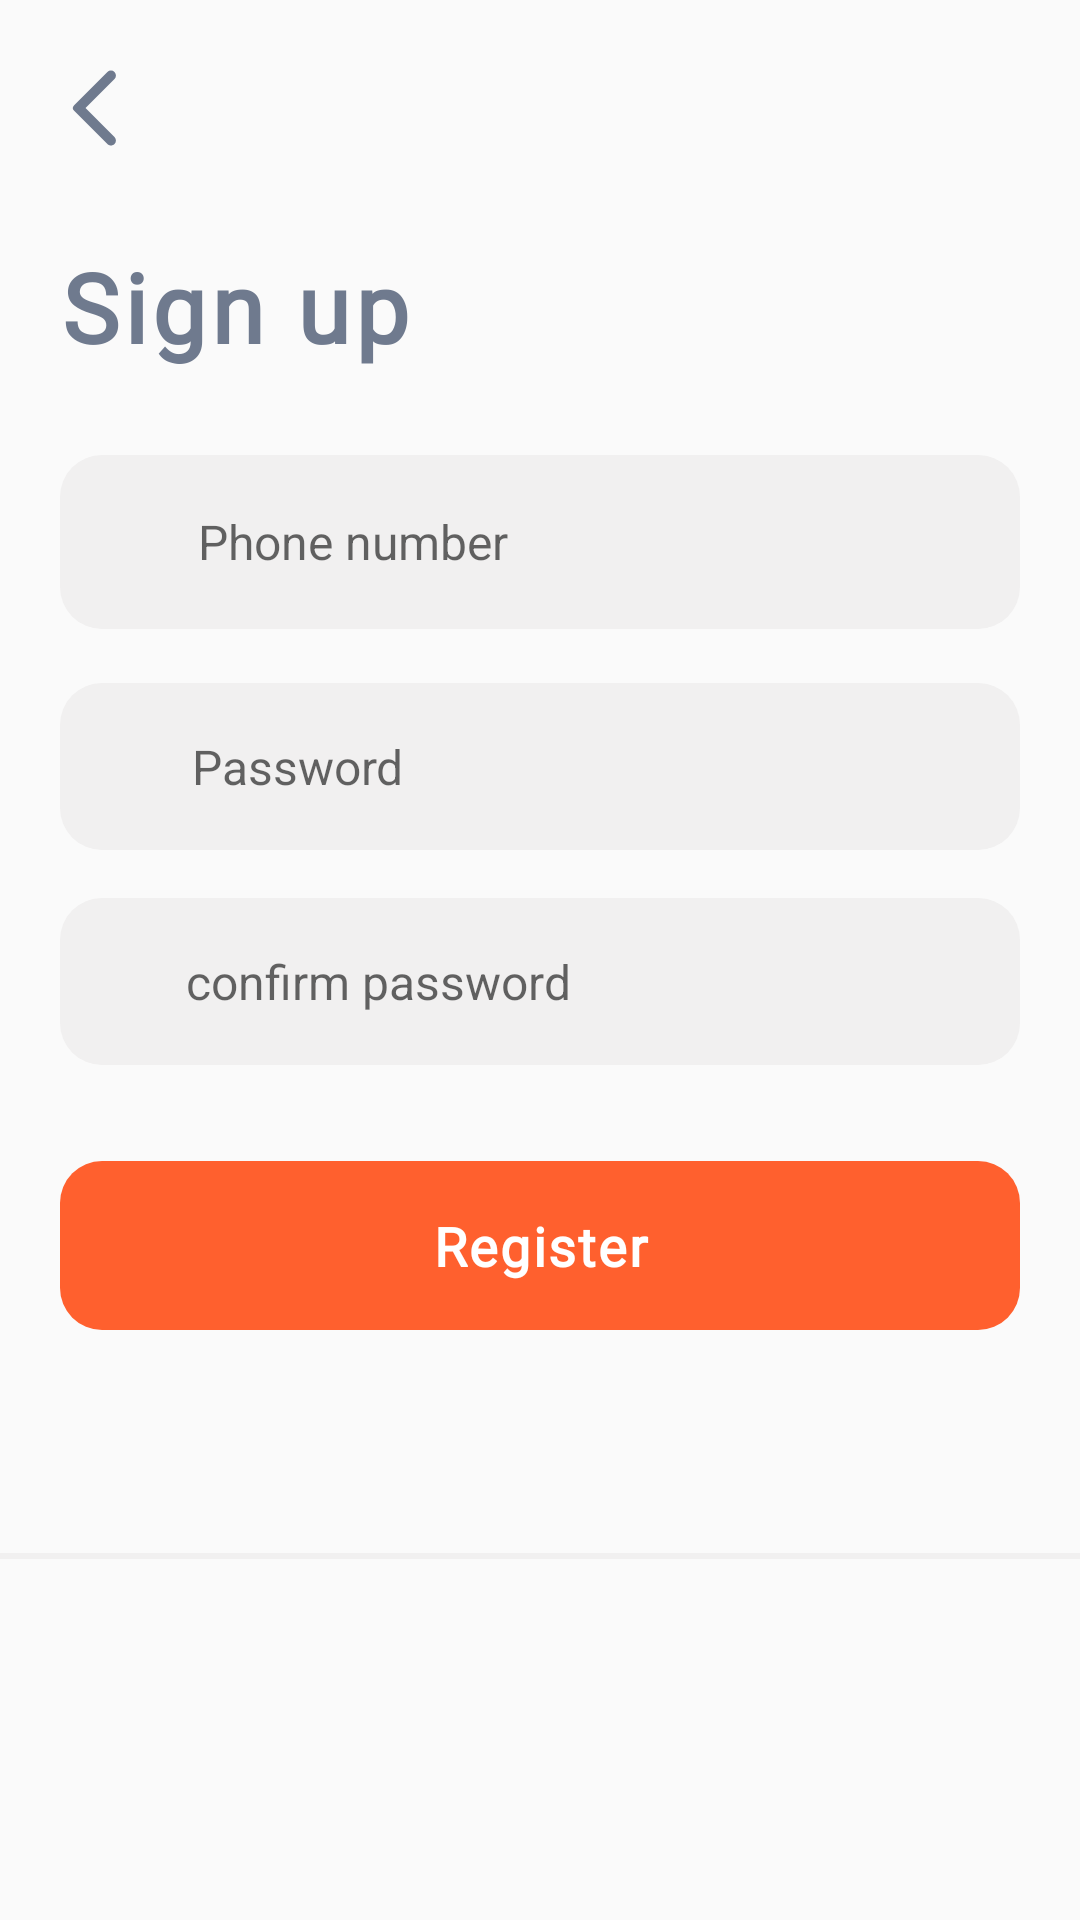

Named icons in this screenshot (1080x1920) and their centers, [x,y]:
arrow back: [94,108]
